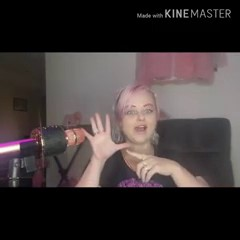A: (77, 111, 179, 185)
